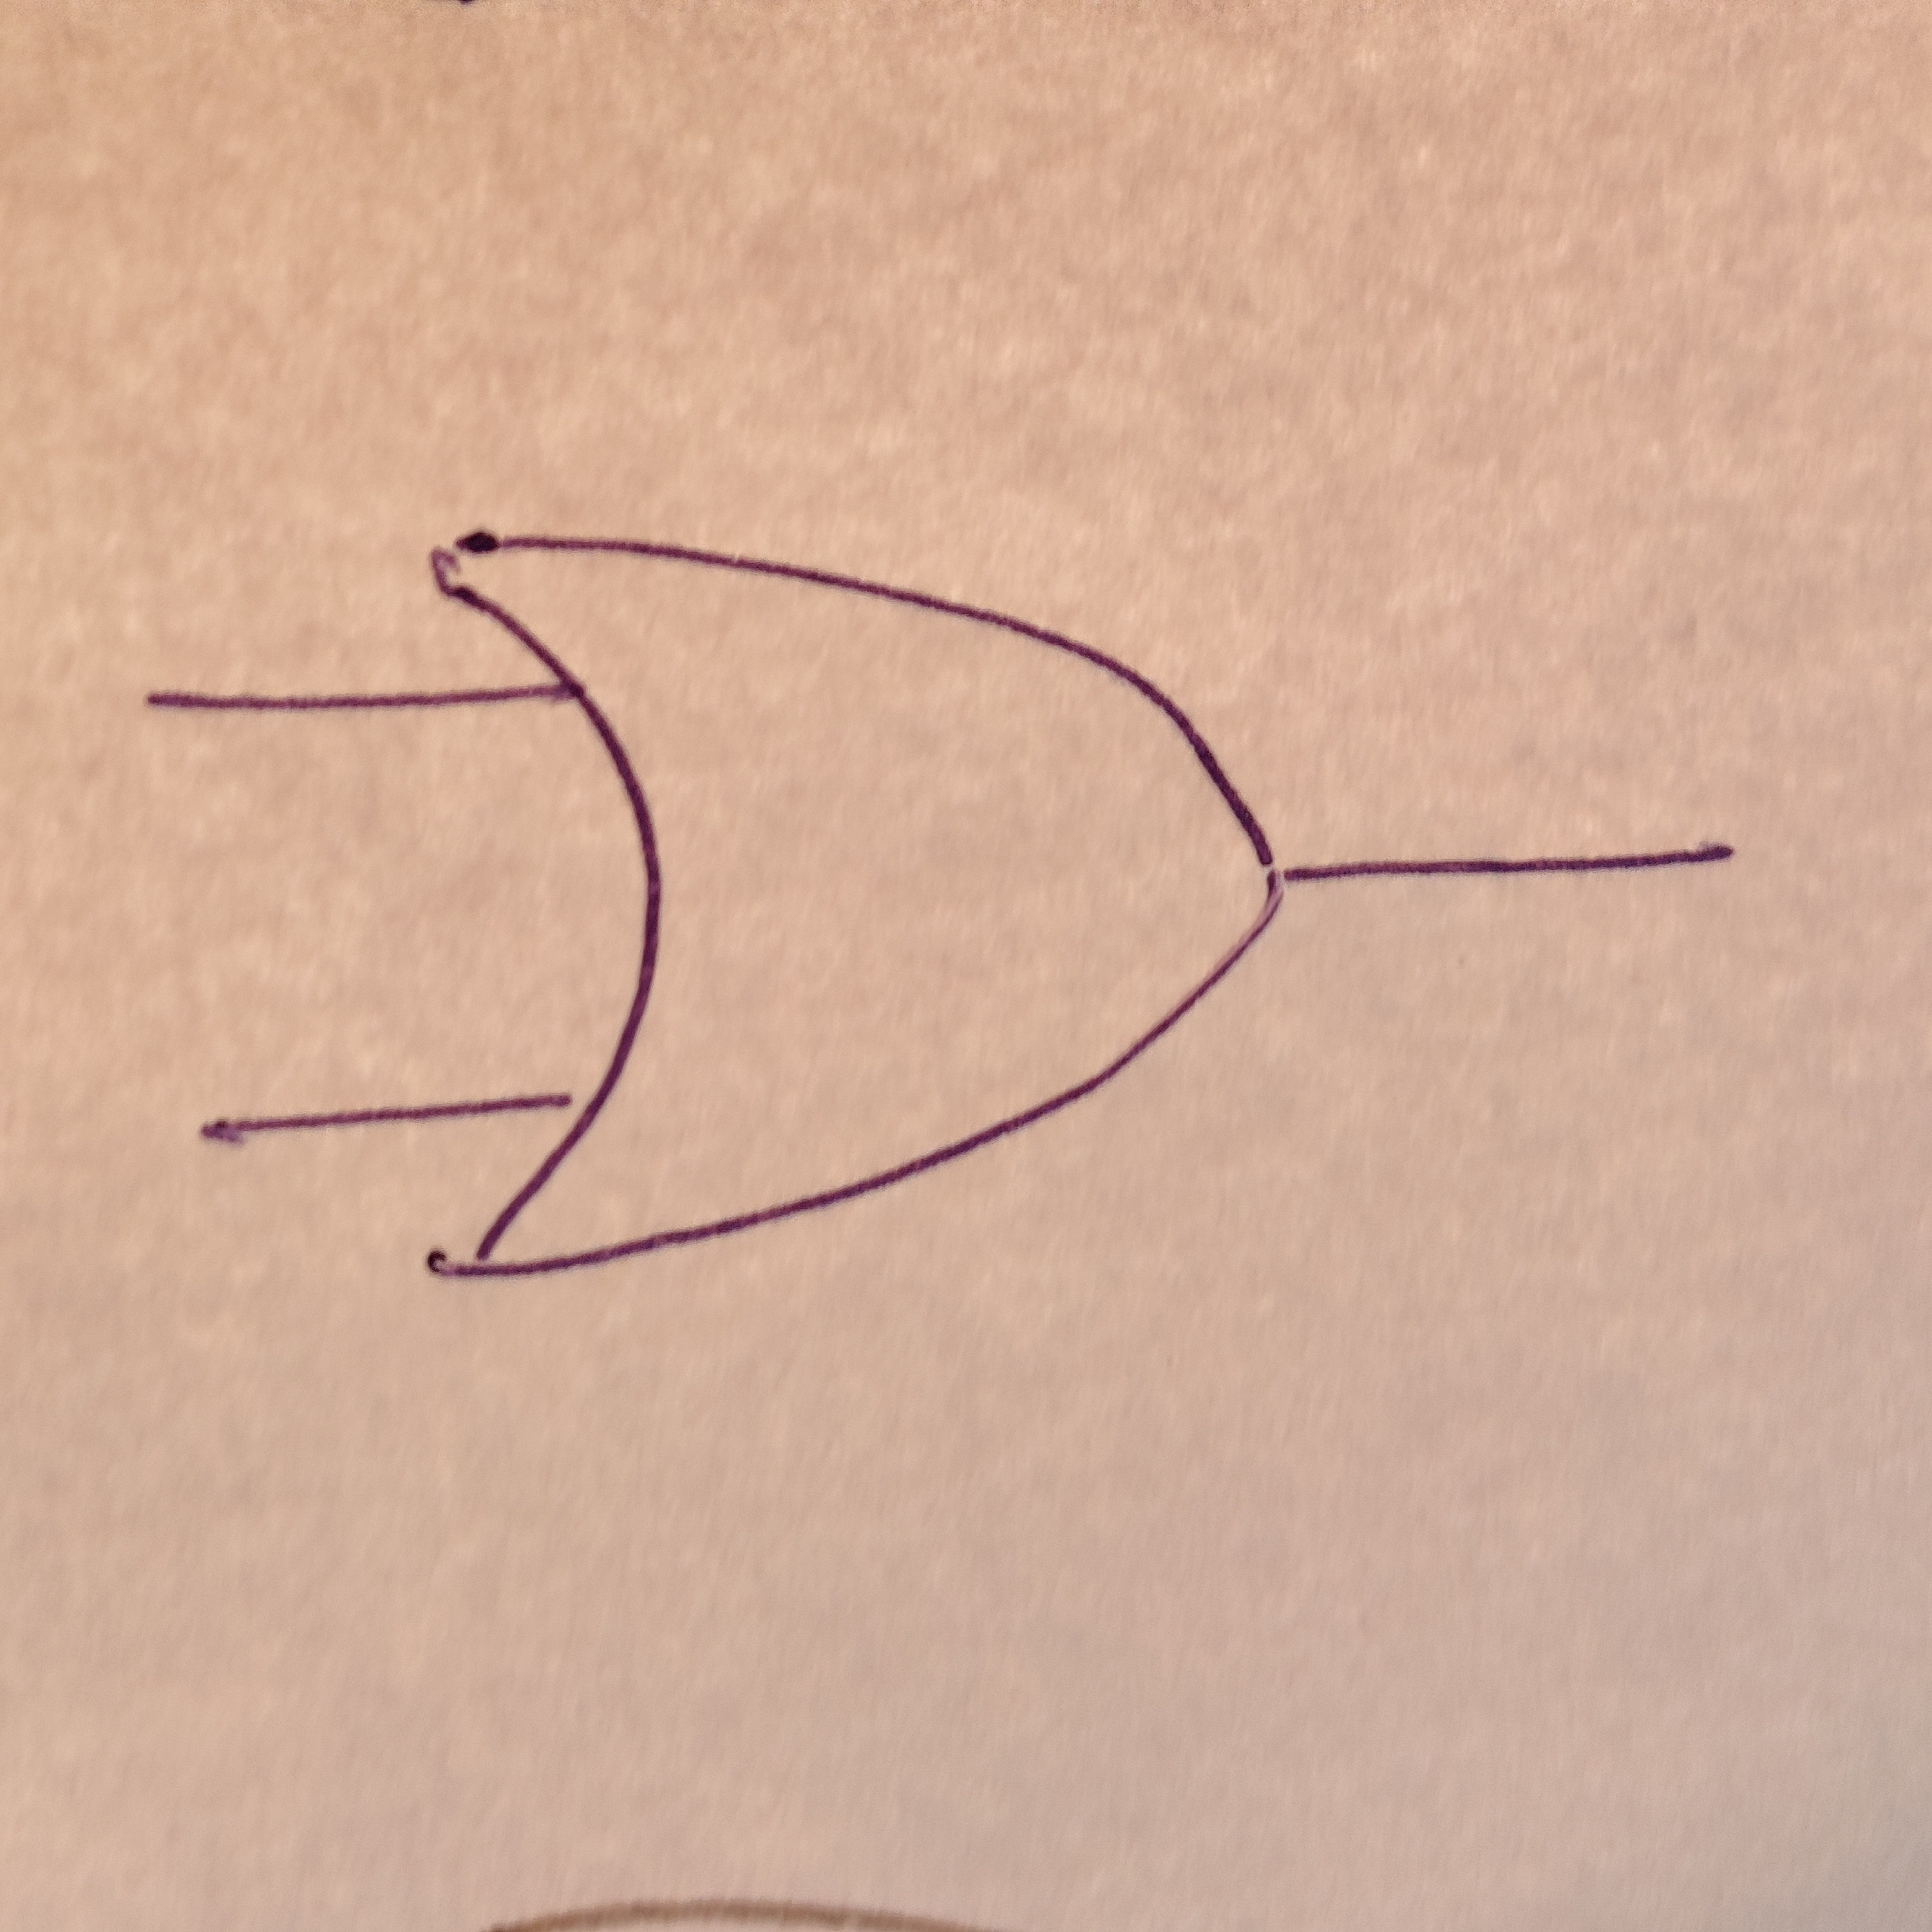or: (432, 531, 1286, 1277)
